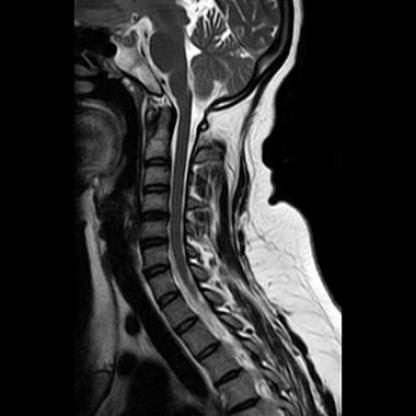Degenerative Disc Diseaserotation: (140, 235, 169, 249), (141, 211, 168, 225)
Disc Bulgerotation: (140, 234, 169, 249), (144, 182, 170, 197), (141, 211, 168, 225), (145, 156, 171, 170)
Osteophytesrotation: (140, 235, 169, 249)
